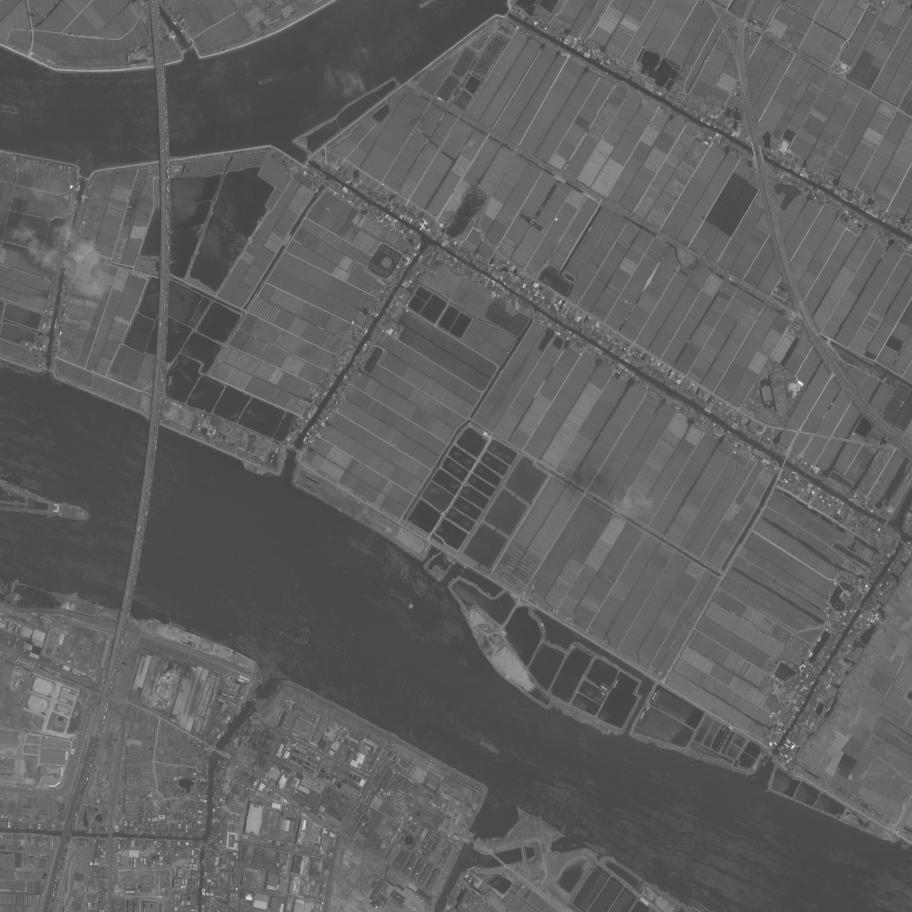ship: (388, 588, 416, 612), (477, 739, 502, 757), (0, 105, 25, 115), (168, 621, 187, 631), (258, 77, 275, 86)
